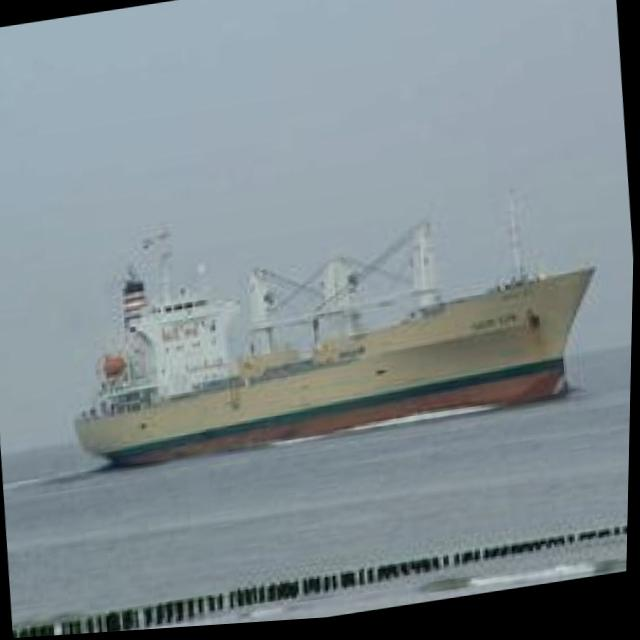ship2: (73, 194, 597, 470)
